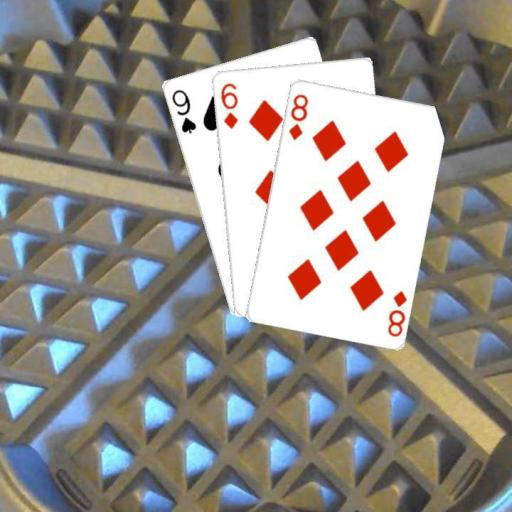6D: (217, 79, 239, 130)
8D: (285, 91, 310, 142), (384, 287, 408, 338)
9S: (168, 86, 198, 135)
